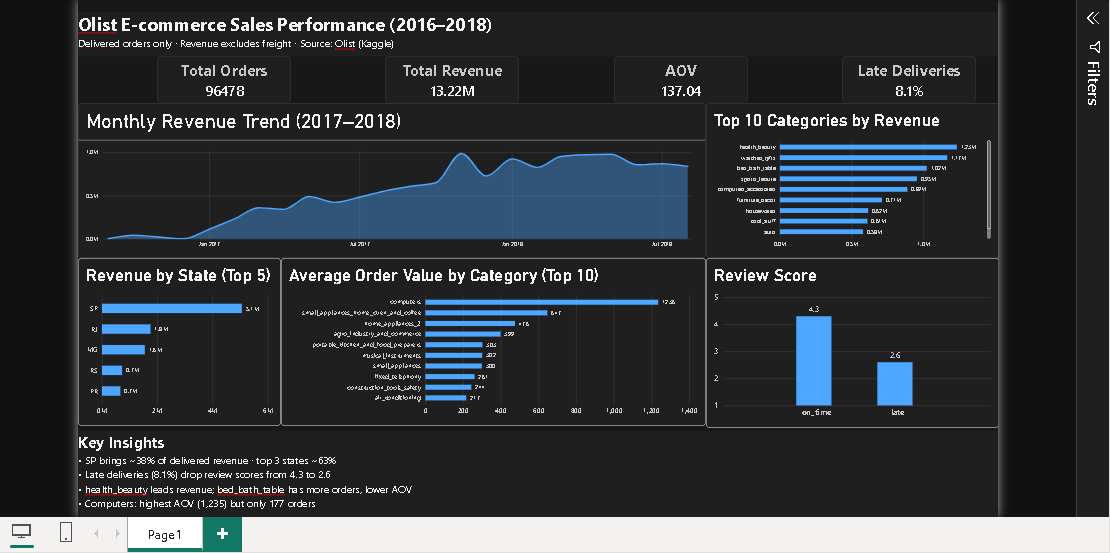

This screenshot's page, from the dashboard's own definition file:
{"tool":"powerbi","page":{"name":"Page 1","canvas":[1920,1080],"ordinal":0},"visuals":[{"type":"cardVisual","fields":{"Data":["08_monthly_revenue.Total Orders"]},"box":[164.7,118.8,279.4,98],"z":0},{"type":"cardVisual","fields":{"Data":["08_monthly_revenue.Total Revenue"]},"box":[640.8,118.8,279.4,98],"z":1000},{"type":"cardVisual","fields":{"Data":["08_monthly_revenue.AOV"]},"box":[1116.8,118.8,279.4,98],"z":2000},{"type":"cardVisual","fields":{"Data":["08_monthly_revenue.Late Deliveries"]},"box":[1592.9,118.8,279.4,98],"z":3000},{"type":"stackedAreaChart","title":"Monthly Revenue Trend (2017–2018)","fields":{"Category":["08_monthly_revenue.month.Variation.Date Hierarchy.Year","08_monthly_revenue.month.Variation.Date Hierarchy.Month"],"Y":["Sum(08_monthly_revenue.revenue)"]},"box":[0,216.8,1309.3,323.2],"z":4000},{"type":"clusteredBarChart","title":"Top 10 Categories by Revenue","fields":{"Category":["09_top_categories.category"],"Y":["Sum(09_top_categories.revenue)"]},"box":[1309.3,216.8,610.9,323.2],"z":5000},{"type":"clusteredBarChart","title":"Revenue by State (Top 5)","fields":{"Category":["10_revenue_by_state.state"],"Y":["Sum(10_revenue_by_state.revenue)"]},"box":[0,540,423.2,350.3],"z":6000},{"type":"clusteredBarChart","title":"Average Order Value by Category (Top 10)","fields":{"Category":["11_aov_by_category.category"],"Y":["Sum(11_aov_by_category.aov)"]},"box":[423.2,540,886.1,350.3],"z":7000},{"type":"clusteredColumnChart","title":"Review Score","fields":{"Category":["14_review_by_delivery.delivery_status"],"Y":["Sum(14_review_by_delivery.avg_review_score)"]},"box":[1309.3,540,610.9,354.4],"z":8000},{"type":"textbox","box":[0,27.1,1920.2,91.7],"z":9000},{"type":"textbox","box":[0,900.7,1920.2,179.3],"z":10000}]}

Visuals, with their boxes on the page's 1920x1080 design canvas (x1, y1, x2, y2). These are canvas units, not pixel positions in the 1110x553 screenshot, which may show the page scaled, cropped or inside an application window:
cardVisual - 08_monthly_revenue.Total Orders: {"left": 165, "top": 119, "right": 444, "bottom": 217}
cardVisual - 08_monthly_revenue.Total Revenue: {"left": 641, "top": 119, "right": 920, "bottom": 217}
cardVisual - 08_monthly_revenue.AOV: {"left": 1117, "top": 119, "right": 1396, "bottom": 217}
cardVisual - 08_monthly_revenue.Late Deliveries: {"left": 1593, "top": 119, "right": 1872, "bottom": 217}
"Monthly Revenue Trend (2017–2018)" stackedAreaChart: {"left": 0, "top": 217, "right": 1309, "bottom": 540}
"Top 10 Categories by Revenue" clusteredBarChart: {"left": 1309, "top": 217, "right": 1920, "bottom": 540}
"Revenue by State (Top 5)" clusteredBarChart: {"left": 0, "top": 540, "right": 423, "bottom": 890}
"Average Order Value by Category (Top 10)" clusteredBarChart: {"left": 423, "top": 540, "right": 1309, "bottom": 890}
"Review Score" clusteredColumnChart: {"left": 1309, "top": 540, "right": 1920, "bottom": 894}
textbox: {"left": 0, "top": 27, "right": 1920, "bottom": 119}
textbox: {"left": 0, "top": 901, "right": 1920, "bottom": 1080}
